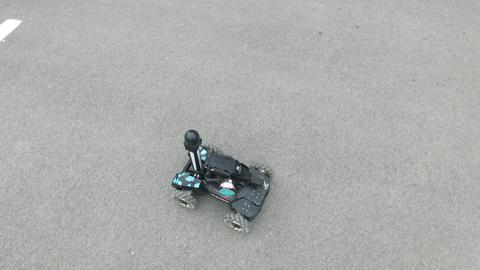chariot: (170, 128, 274, 233)
